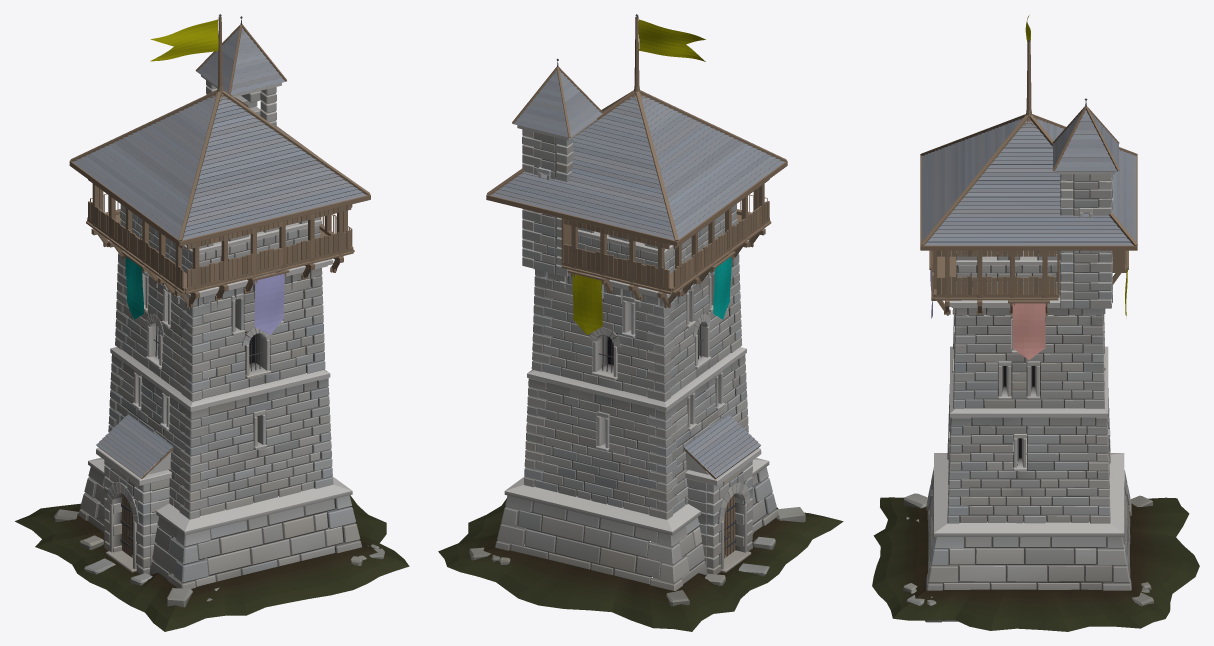
Rendered from fort_keep.glb.
3 views of the same model, side by side, from view 1: azimuth 30°, elevation 25°; view 2: azimuth 150°, elevation 25°; view 3: azimuth 270°, elevation 25° (orthographic).
Visible parts, largest first — view 1: FortKeep_LOD0, Estandarte; view 2: FortKeep_LOD0, Estandarte; view 3: FortKeep_LOD0, Estandarte.
Boxes of the visible parts, left/top/right/bottom form: FortKeep_LOD0: left=15, top=14, right=409, bottom=631; Estandarte: left=125, top=19, right=284, bottom=334; FortKeep_LOD0: left=438, top=14, right=843, bottom=631; Estandarte: left=572, top=19, right=731, bottom=335; FortKeep_LOD0: left=872, top=39, right=1199, bottom=631; Estandarte: left=930, top=15, right=1127, bottom=359.
Size of what is drawn, in the model's own units: 14.94 by 27.02 by 14.87.
